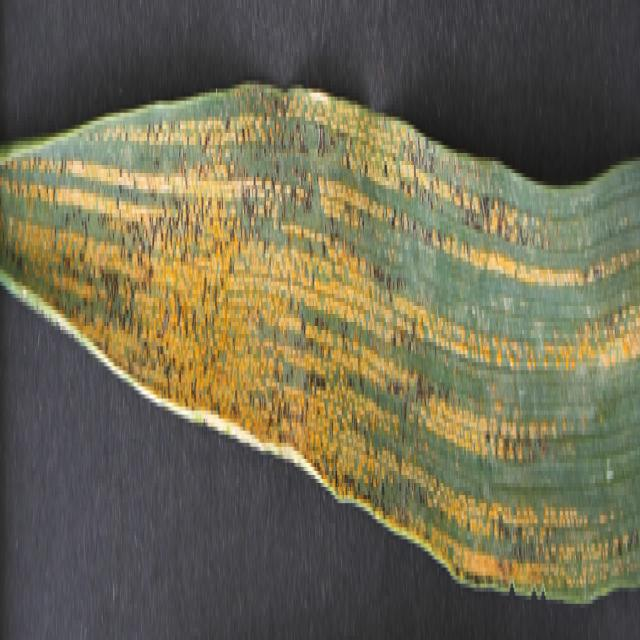leaf rust: (8, 52, 638, 604)
